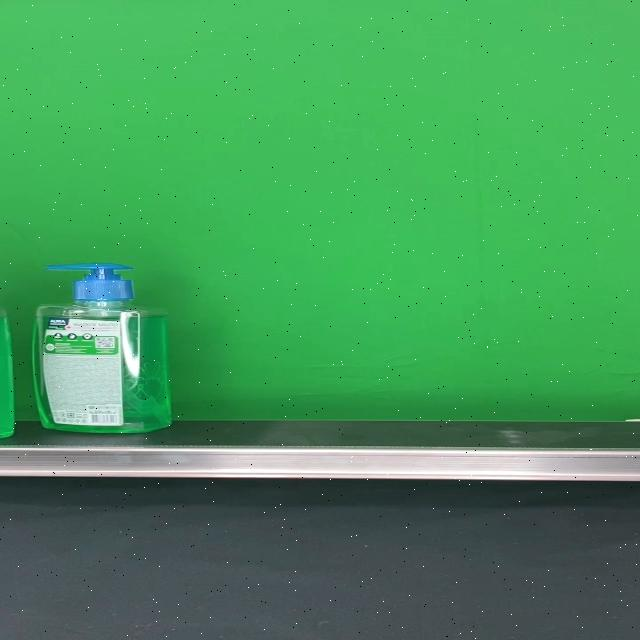Bottle: (32, 263, 173, 432)
Cap: (45, 263, 135, 301)
